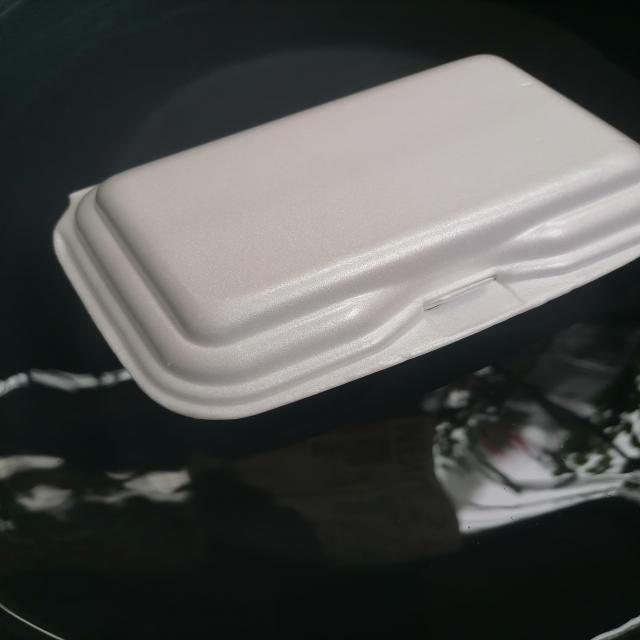Styrofoam Container: (54, 55, 640, 420)
